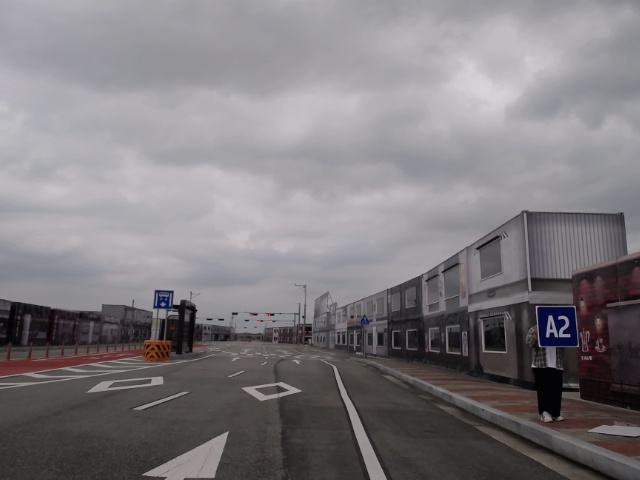delivery_a2: (537, 306, 578, 347)
